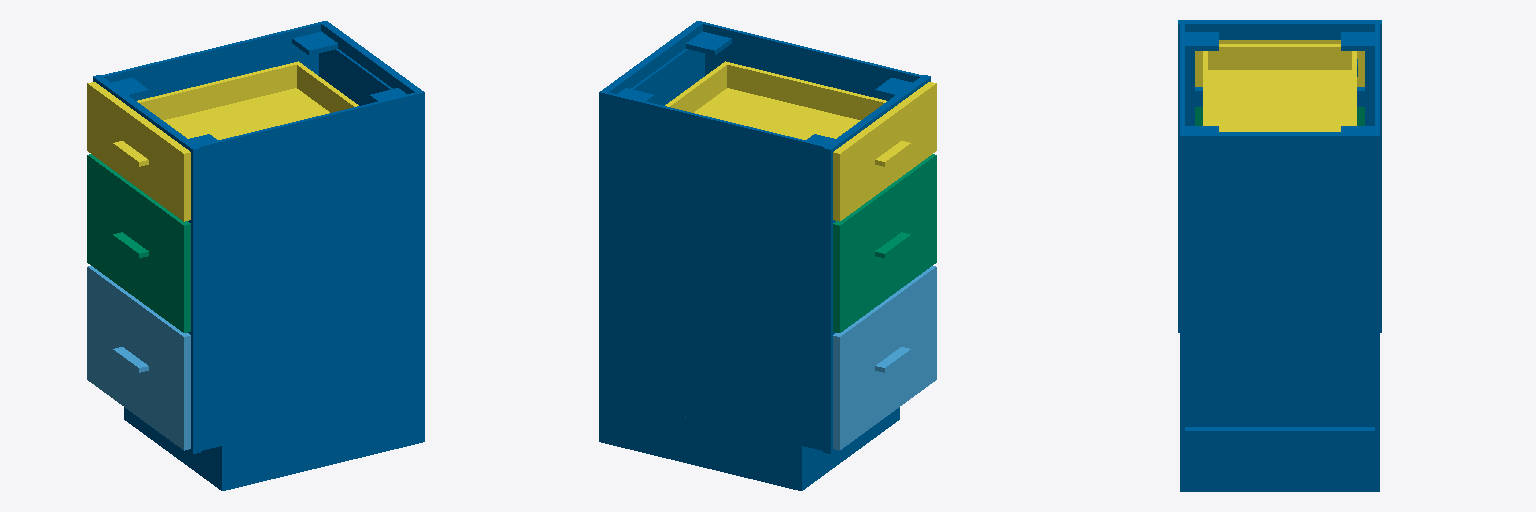
The robot description file, URDF, robot "partnet_4fd61ff0aa949a4486d53ab0fe94e911":
<robot name="partnet_4fd61ff0aa949a4486d53ab0fe94e911">
	<link name="base"><inertial><origin xyz="0 0 0" rpy="0 0 0" /><mass value="1.0" /><inertia ixx="0.01" ixy="0" ixz="0" iyy="0.01" iyz="0" izz="0.01" /></inertial></link>
	<link name="link_0">
		<visual name="drawer_front-23">
			<origin xyz="-0.00294 -0.31501 0.55093" />
			<geometry>
				<box size="0.78496 0.50909 0.03413" /></geometry>
		</visual>
		<visual name="drawer_front-23">
			<origin xyz="-0.00294 -0.31643 0.52249" />
			<geometry>
				<box size="0.57450 0.36404 0.02275" /></geometry>
		</visual>
		<visual name="drawer_side-24">
			<origin xyz="0.29568 -0.31643 0.07882" />
			<geometry>
				<box size="0.02275 0.36404 0.91010" /></geometry>
		</visual>
		<visual name="drawer_side-25">
			<origin xyz="-0.30157 -0.31643 0.07882" />
			<geometry>
				<box size="0.02275 0.36404 0.91010" /></geometry>
		</visual>
		<visual name="drawer_back-26">
			<origin xyz="-0.00294 -0.31643 -0.36486" />
			<geometry>
				<box size="0.57450 0.36404 0.02275" /></geometry>
		</visual>
		<visual name="drawer_bottom-27">
			<origin xyz="-0.00294 -0.46717 0.07882" />
			<geometry>
				<box size="0.57450 0.00100 0.86460" /></geometry>
		</visual>
		<visual name="drawer_bottom-27">
			<origin xyz="-0.00294 -0.47570 0.07882" />
			<geometry>
				<box size="0.57450 0.00100 0.86460" /></geometry>
		</visual>
		<visual name="handle-22">
			<origin xyz="-0.00294 -0.31501 0.59093" />
			<geometry>
				<box size="0.21416 0.02105 0.04587" /></geometry>
		</visual>
		<collision>
			<origin xyz="-0.00294 -0.31501 0.55093" />
			<geometry>
				<box size="0.78496 0.50909 0.03413" /></geometry>
		</collision>
		<collision>
			<origin xyz="-0.00294 -0.31643 0.52249" />
			<geometry>
				<box size="0.57450 0.36404 0.02275" /></geometry>
		</collision>
		<collision>
			<origin xyz="0.29568 -0.31643 0.07882" />
			<geometry>
				<box size="0.02275 0.36404 0.91010" /></geometry>
		</collision>
		<collision>
			<origin xyz="-0.30157 -0.31643 0.07882" />
			<geometry>
				<box size="0.02275 0.36404 0.91010" /></geometry>
		</collision>
		<collision>
			<origin xyz="-0.00294 -0.31643 -0.36486" />
			<geometry>
				<box size="0.57450 0.36404 0.02275" /></geometry>
		</collision>
		<collision>
			<origin xyz="-0.00294 -0.46717 0.07882" />
			<geometry>
				<box size="0.57450 0.00100 0.86460" /></geometry>
		</collision>
		<collision>
			<origin xyz="-0.00294 -0.47570 0.07882" />
			<geometry>
				<box size="0.57450 0.00100 0.86460" /></geometry>
		</collision>
		<collision>
			<origin xyz="-0.00294 -0.31501 0.59093" />
			<geometry>
				<box size="0.21416 0.02105 0.04587" /></geometry>
		</collision>
	<inertial><origin xyz="0 0 0" rpy="0 0 0" /><mass value="1.0" /><inertia ixx="0.01" ixy="0" ixz="0" iyy="0.01" iyz="0" izz="0.01" /></inertial></link>
	<joint name="joint_0" type="prismatic">
		<origin xyz="0 0 0" />
		<axis xyz="0 0 1" />
		<child link="link_0" />
		<parent link="link_3" />
		<limit lower="0" upper="0.8" />
	</joint>
	<link name="link_1">
		<visual name="drawer_front-16">
			<origin xyz="-0.00294 0.19834 0.55093" />
			<geometry>
				<box size="0.78496 0.48349 0.03413" /></geometry>
		</visual>
		<visual name="drawer_front-16">
			<origin xyz="-0.00294 0.18981 0.52249" />
			<geometry>
				<box size="0.57450 0.36404 0.02275" /></geometry>
		</visual>
		<visual name="drawer_side-17">
			<origin xyz="0.29568 0.18981 0.07882" />
			<geometry>
				<box size="0.02275 0.36404 0.91010" /></geometry>
		</visual>
		<visual name="drawer_side-18">
			<origin xyz="-0.30157 0.18981 0.07882" />
			<geometry>
				<box size="0.02275 0.36404 0.91010" /></geometry>
		</visual>
		<visual name="drawer_back-19">
			<origin xyz="-0.00294 0.18981 -0.36486" />
			<geometry>
				<box size="0.57450 0.36404 0.02275" /></geometry>
		</visual>
		<visual name="drawer_bottom-20">
			<origin xyz="-0.00294 0.03054 0.07882" />
			<geometry>
				<box size="0.57450 0.00100 0.86460" /></geometry>
		</visual>
		<visual name="drawer_bottom-20">
			<origin xyz="-0.00294 0.03908 0.07882" />
			<geometry>
				<box size="0.57450 0.00100 0.86460" /></geometry>
		</visual>
		<visual name="handle-15">
			<origin xyz="-0.00294 0.19834 0.59093" />
			<geometry>
				<box size="0.21416 0.02105 0.04587" /></geometry>
		</visual>
		<collision>
			<origin xyz="-0.00294 0.19834 0.55093" />
			<geometry>
				<box size="0.78496 0.48349 0.03413" /></geometry>
		</collision>
		<collision>
			<origin xyz="-0.00294 0.18981 0.52249" />
			<geometry>
				<box size="0.57450 0.36404 0.02275" /></geometry>
		</collision>
		<collision>
			<origin xyz="0.29568 0.18981 0.07882" />
			<geometry>
				<box size="0.02275 0.36404 0.91010" /></geometry>
		</collision>
		<collision>
			<origin xyz="-0.30157 0.18981 0.07882" />
			<geometry>
				<box size="0.02275 0.36404 0.91010" /></geometry>
		</collision>
		<collision>
			<origin xyz="-0.00294 0.18981 -0.36486" />
			<geometry>
				<box size="0.57450 0.36404 0.02275" /></geometry>
		</collision>
		<collision>
			<origin xyz="-0.00294 0.03054 0.07882" />
			<geometry>
				<box size="0.57450 0.00100 0.86460" /></geometry>
		</collision>
		<collision>
			<origin xyz="-0.00294 0.03908 0.07882" />
			<geometry>
				<box size="0.57450 0.00100 0.86460" /></geometry>
		</collision>
		<collision>
			<origin xyz="-0.00294 0.19834 0.59093" />
			<geometry>
				<box size="0.21416 0.02105 0.04587" /></geometry>
		</collision>
	<inertial><origin xyz="0 0 0" rpy="0 0 0" /><mass value="1.0" /><inertia ixx="0.01" ixy="0" ixz="0" iyy="0.01" iyz="0" izz="0.01" /></inertial></link>
	<joint name="joint_1" type="prismatic">
		<origin xyz="0 0 0" />
		<axis xyz="0 0 1" />
		<child link="link_1" />
		<parent link="link_3" />
		<limit lower="0" upper="0.8" />
	</joint>
	<link name="link_2">
		<visual name="drawer_front-9">
			<origin xyz="-0.00294 0.60505 0.52249" />
			<geometry>
				<box size="0.57450 0.13652 0.02275" /></geometry>
		</visual>
		<visual name="drawer_front-9">
			<origin xyz="-0.00294 0.60931 0.55093" />
			<geometry>
				<box size="0.78496 0.30432 0.03413" /></geometry>
		</visual>
		<visual name="drawer_side-10">
			<origin xyz="0.29568 0.60505 0.07882" />
			<geometry>
				<box size="0.02275 0.13652 0.91010" /></geometry>
		</visual>
		<visual name="drawer_side-11">
			<origin xyz="-0.30157 0.60505 0.07882" />
			<geometry>
				<box size="0.02275 0.13652 0.91010" /></geometry>
		</visual>
		<visual name="drawer_back-12">
			<origin xyz="-0.00294 0.60505 -0.36486" />
			<geometry>
				<box size="0.57450 0.13652 0.02275" /></geometry>
		</visual>
		<visual name="drawer_bottom-13">
			<origin xyz="-0.00294 0.56807 0.07882" />
			<geometry>
				<box size="0.57450 0.00100 0.86460" /></geometry>
		</visual>
		<visual name="drawer_bottom-13">
			<origin xyz="-0.00294 0.55954 0.07882" />
			<geometry>
				<box size="0.57450 0.00100 0.86460" /></geometry>
		</visual>
		<visual name="handle-8">
			<origin xyz="-0.00294 0.60931 0.59093" />
			<geometry>
				<box size="0.21416 0.02105 0.04587" /></geometry>
		</visual>
		<collision>
			<origin xyz="-0.00294 0.60505 0.52249" />
			<geometry>
				<box size="0.57450 0.13652 0.02275" /></geometry>
		</collision>
		<collision>
			<origin xyz="-0.00294 0.60931 0.55093" />
			<geometry>
				<box size="0.78496 0.30432 0.03413" /></geometry>
		</collision>
		<collision>
			<origin xyz="0.29568 0.60505 0.07882" />
			<geometry>
				<box size="0.02275 0.13652 0.91010" /></geometry>
		</collision>
		<collision>
			<origin xyz="-0.30157 0.60505 0.07882" />
			<geometry>
				<box size="0.02275 0.13652 0.91010" /></geometry>
		</collision>
		<collision>
			<origin xyz="-0.00294 0.60505 -0.36486" />
			<geometry>
				<box size="0.57450 0.13652 0.02275" /></geometry>
		</collision>
		<collision>
			<origin xyz="-0.00294 0.56807 0.07882" />
			<geometry>
				<box size="0.57450 0.00100 0.86460" /></geometry>
		</collision>
		<collision>
			<origin xyz="-0.00294 0.55954 0.07882" />
			<geometry>
				<box size="0.57450 0.00100 0.86460" /></geometry>
		</collision>
		<collision>
			<origin xyz="-0.00294 0.60931 0.59093" />
			<geometry>
				<box size="0.21416 0.02105 0.04587" /></geometry>
		</collision>
	<inertial><origin xyz="0 0 0" rpy="0 0 0" /><mass value="1.0" /><inertia ixx="0.01" ixy="0" ixz="0" iyy="0.01" iyz="0" izz="0.01" /></inertial></link>
	<joint name="joint_2" type="prismatic">
		<origin xyz="0 0 0" />
		<axis xyz="0 0 1" />
		<child link="link_2" />
		<parent link="link_3" />
		<limit lower="0" upper="0.8" />
	</joint>
	<link name="link_3">
		<visual name="frame_vertical_bar-38">
			<origin xyz="0.37247 0.09596 0.51681" />
			<geometry>
				<box size="0.06826 1.36515 0.03413" /></geometry>
		</visual>
		<visual name="frame_vertical_bar-39">
			<origin xyz="-0.37836 0.09596 0.51681" />
			<geometry>
				<box size="0.06826 1.36515 0.03413" /></geometry>
		</visual>
		<visual name="frame_horizontal_bar-40">
			<origin xyz="-0.00294 0.71028 -0.54119" />
			<geometry>
				<box size="0.76221 0.13651 0.03413" /></geometry>
		</visual>
		<visual name="frame_horizontal_bar-41">
			<origin xyz="-0.00294 -0.55249 0.51681" />
			<geometry>
				<box size="0.68258 0.06826 0.03413" /></geometry>
		</visual>
		<visual name="frame_horizontal_bar-42">
			<origin xyz="-0.00294 -0.04625 0.51681" />
			<geometry>
				<box size="0.68258 0.06826 0.03413" /></geometry>
		</visual>
		<visual name="frame_horizontal_bar-43">
			<origin xyz="-0.00294 0.44862 0.51681" />
			<geometry>
				<box size="0.68258 0.06826 0.03413" /></geometry>
		</visual>
		<visual name="frame_horizontal_bar-44">
			<origin xyz="-0.00294 0.74441 0.51681" />
			<geometry>
				<box size="0.68258 0.06826 0.03413" /></geometry>
		</visual>
		<visual name="other_leaf-52">
			<origin xyz="0.30990 0.73303 0.43148" />
			<geometry>
				<box size="0.13652 0.02275 0.13652" /></geometry>
		</visual>
		<visual name="other_leaf-51">
			<origin xyz="-0.31579 0.73303 0.43148" />
			<geometry>
				<box size="0.13651 0.02275 0.13652" /></geometry>
		</visual>
		<visual name="other_leaf-50">
			<origin xyz="0.30990 0.73303 -0.45587" />
			<geometry>
				<box size="0.13652 0.02275 0.13651" /></geometry>
		</visual>
		<visual name="other_leaf-49">
			<origin xyz="-0.31579 0.73303 -0.45587" />
			<geometry>
				<box size="0.13651 0.02275 0.13651" /></geometry>
		</visual>
		<visual name="vertical_side_panel-53">
			<origin xyz="-0.39258 0.09596 -0.08329" />
			<geometry>
				<box size="0.01706 1.36515 0.94992" /></geometry>
		</visual>
		<visual name="vertical_side_panel-53">
			<origin xyz="-0.39258 0.09596 0.44570" />
			<geometry>
				<box size="0.01706 1.36515 0.10807" /></geometry>
		</visual>
		<visual name="vertical_side_panel-54">
			<origin xyz="0.38669 0.09596 0.44570" />
			<geometry>
				<box size="0.01706 1.36515 0.10807" /></geometry>
		</visual>
		<visual name="vertical_side_panel-54">
			<origin xyz="0.38669 0.09596 -0.08329" />
			<geometry>
				<box size="0.01706 1.36515 0.94992" /></geometry>
		</visual>
		<visual name="back_panel-55">
			<origin xyz="-0.00294 0.08458 -0.51844" />
			<geometry>
				<box size="0.76221 1.27414 0.01138" /></geometry>
		</visual>
		<visual name="bottom_panel-56">
			<origin xyz="-0.00294 -0.54111 -0.00650" />
			<geometry>
				<box size="0.76221 0.02275 1.01249" /></geometry>
		</visual>
		<visual name="other_leaf-64">
			<origin xyz="-0.24185 -0.43190 -0.52412" />
			<geometry>
				<box size="0.27303 0.18430 0.00100" /></geometry>
		</visual>
		<visual name="other_leaf-63">
			<origin xyz="-0.31295 -0.19129 0.43190" />
			<geometry>
				<box size="0.00100 0.04550 0.06742" /></geometry>
		</visual>
		<visual name="other_leaf-62">
			<origin xyz="-0.31295 0.31495 0.43190" />
			<geometry>
				<box size="0.00100 0.04551 0.06742" /></geometry>
		</visual>
		<visual name="other_leaf-61">
			<origin xyz="-0.31295 0.61642 0.43190" />
			<geometry>
				<box size="0.00100 0.04551 0.06742" /></geometry>
		</visual>
		<visual name="base_side_panel-29">
			<origin xyz="0.38669 -0.68901 -0.08329" />
			<geometry>
				<box size="0.01706 0.20477 0.94992" /></geometry>
		</visual>
		<visual name="base_side_panel-30">
			<origin xyz="-0.00294 -0.65772 -0.54119" />
			<geometry>
				<box size="0.76221 0.26734 0.03413" /></geometry>
		</visual>
		<visual name="base_side_panel-31">
			<origin xyz="-0.39258 -0.68901 -0.08329" />
			<geometry>
				<box size="0.01706 0.20477 0.94992" /></geometry>
		</visual>
		<visual name="base_side_panel-32">
			<origin xyz="-0.00294 -0.67194 0.38313" />
			<geometry>
				<box size="0.76221 0.23890 0.01706" /></geometry>
		</visual>
		<collision>
			<origin xyz="0.37247 0.09596 0.51681" />
			<geometry>
				<box size="0.06826 1.36515 0.03413" /></geometry>
		</collision>
		<collision>
			<origin xyz="-0.37836 0.09596 0.51681" />
			<geometry>
				<box size="0.06826 1.36515 0.03413" /></geometry>
		</collision>
		<collision>
			<origin xyz="-0.00294 0.71028 -0.54119" />
			<geometry>
				<box size="0.76221 0.13651 0.03413" /></geometry>
		</collision>
		<collision>
			<origin xyz="-0.00294 -0.55249 0.51681" />
			<geometry>
				<box size="0.68258 0.06826 0.03413" /></geometry>
		</collision>
		<collision>
			<origin xyz="-0.00294 -0.04625 0.51681" />
			<geometry>
				<box size="0.68258 0.06826 0.03413" /></geometry>
		</collision>
		<collision>
			<origin xyz="-0.00294 0.44862 0.51681" />
			<geometry>
				<box size="0.68258 0.06826 0.03413" /></geometry>
		</collision>
		<collision>
			<origin xyz="-0.00294 0.74441 0.51681" />
			<geometry>
				<box size="0.68258 0.06826 0.03413" /></geometry>
		</collision>
		<collision>
			<origin xyz="0.30990 0.73303 0.43148" />
			<geometry>
				<box size="0.13652 0.02275 0.13652" /></geometry>
		</collision>
		<collision>
			<origin xyz="-0.31579 0.73303 0.43148" />
			<geometry>
				<box size="0.13651 0.02275 0.13652" /></geometry>
		</collision>
		<collision>
			<origin xyz="0.30990 0.73303 -0.45587" />
			<geometry>
				<box size="0.13652 0.02275 0.13651" /></geometry>
		</collision>
		<collision>
			<origin xyz="-0.31579 0.73303 -0.45587" />
			<geometry>
				<box size="0.13651 0.02275 0.13651" /></geometry>
		</collision>
		<collision>
			<origin xyz="-0.39258 0.09596 -0.08329" />
			<geometry>
				<box size="0.01706 1.36515 0.94992" /></geometry>
		</collision>
		<collision>
			<origin xyz="-0.39258 0.09596 0.44570" />
			<geometry>
				<box size="0.01706 1.36515 0.10807" /></geometry>
		</collision>
		<collision>
			<origin xyz="0.38669 0.09596 0.44570" />
			<geometry>
				<box size="0.01706 1.36515 0.10807" /></geometry>
		</collision>
		<collision>
			<origin xyz="0.38669 0.09596 -0.08329" />
			<geometry>
				<box size="0.01706 1.36515 0.94992" /></geometry>
		</collision>
		<collision>
			<origin xyz="-0.00294 0.08458 -0.51844" />
			<geometry>
				<box size="0.76221 1.27414 0.01138" /></geometry>
		</collision>
		<collision>
			<origin xyz="-0.00294 -0.54111 -0.00650" />
			<geometry>
				<box size="0.76221 0.02275 1.01249" /></geometry>
		</collision>
		<collision>
			<origin xyz="-0.24185 -0.43190 -0.52412" />
			<geometry>
				<box size="0.27303 0.18430 0.00100" /></geometry>
		</collision>
		<collision>
			<origin xyz="-0.31295 -0.19129 0.43190" />
			<geometry>
				<box size="0.00100 0.04550 0.06742" /></geometry>
		</collision>
		<collision>
			<origin xyz="-0.31295 0.31495 0.43190" />
			<geometry>
				<box size="0.00100 0.04551 0.06742" /></geometry>
		</collision>
		<collision>
			<origin xyz="-0.31295 0.61642 0.43190" />
			<geometry>
				<box size="0.00100 0.04551 0.06742" /></geometry>
		</collision>
		<collision>
			<origin xyz="0.38669 -0.68901 -0.08329" />
			<geometry>
				<box size="0.01706 0.20477 0.94992" /></geometry>
		</collision>
		<collision>
			<origin xyz="-0.00294 -0.65772 -0.54119" />
			<geometry>
				<box size="0.76221 0.26734 0.03413" /></geometry>
		</collision>
		<collision>
			<origin xyz="-0.39258 -0.68901 -0.08329" />
			<geometry>
				<box size="0.01706 0.20477 0.94992" /></geometry>
		</collision>
		<collision>
			<origin xyz="-0.00294 -0.67194 0.38313" />
			<geometry>
				<box size="0.76221 0.23890 0.01706" /></geometry>
		</collision>
	<inertial><origin xyz="0 0 0" rpy="0 0 0" /><mass value="1.0" /><inertia ixx="0.01" ixy="0" ixz="0" iyy="0.01" iyz="0" izz="0.01" /></inertial></link>
	<joint name="joint_3" type="fixed">
		<origin rpy="1.570796326794897 0 -1.570796326794897" xyz="0 0 0" />
		<child link="link_3" />
		<parent link="base" />
	</joint>
<mujoco><compiler meshdir="textured_objs" discardvisual="true" /></mujoco></robot>

--- Facts derived from the render (not from the file) ---
Views: 3 orthographic renders of the robot side by side, from view 1: azimuth 30°, elevation 25°; view 2: azimuth 150°, elevation 25°; view 3: azimuth 270°, elevation 25°.
Robot: partnet_4fd61ff0aa949a4486d53ab0fe94e911 — 5 links, 4 joints (3 prismatic, 1 fixed); root link base; default pose: every joint at zero.
Links seen in each view (by area): view 1: link_3, link_2, link_0, link_1; view 2: link_3, link_2, link_0, link_1; view 3: link_3, link_2.
Link boxes in pixels (x1,y1,x2,y2): link_3: [93, 21, 424, 490]; link_2: [87, 61, 358, 221]; link_0: [87, 266, 190, 450]; link_1: [87, 154, 190, 332]; link_3: [599, 21, 930, 490]; link_2: [665, 61, 936, 221]; link_0: [833, 266, 936, 450]; link_1: [833, 154, 936, 332]; link_3: [1178, 20, 1381, 491]; link_2: [1195, 40, 1364, 131].
Size in the robot's own frame: 1.17 by 0.8191 by 1.57 metres.
Geometry: primitives only (box / cylinder / sphere), no mesh files.
